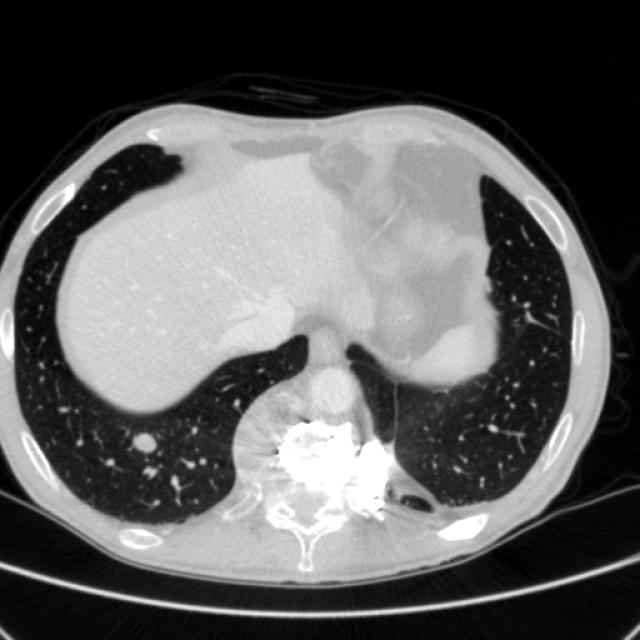nodule: (122, 418, 166, 464)
